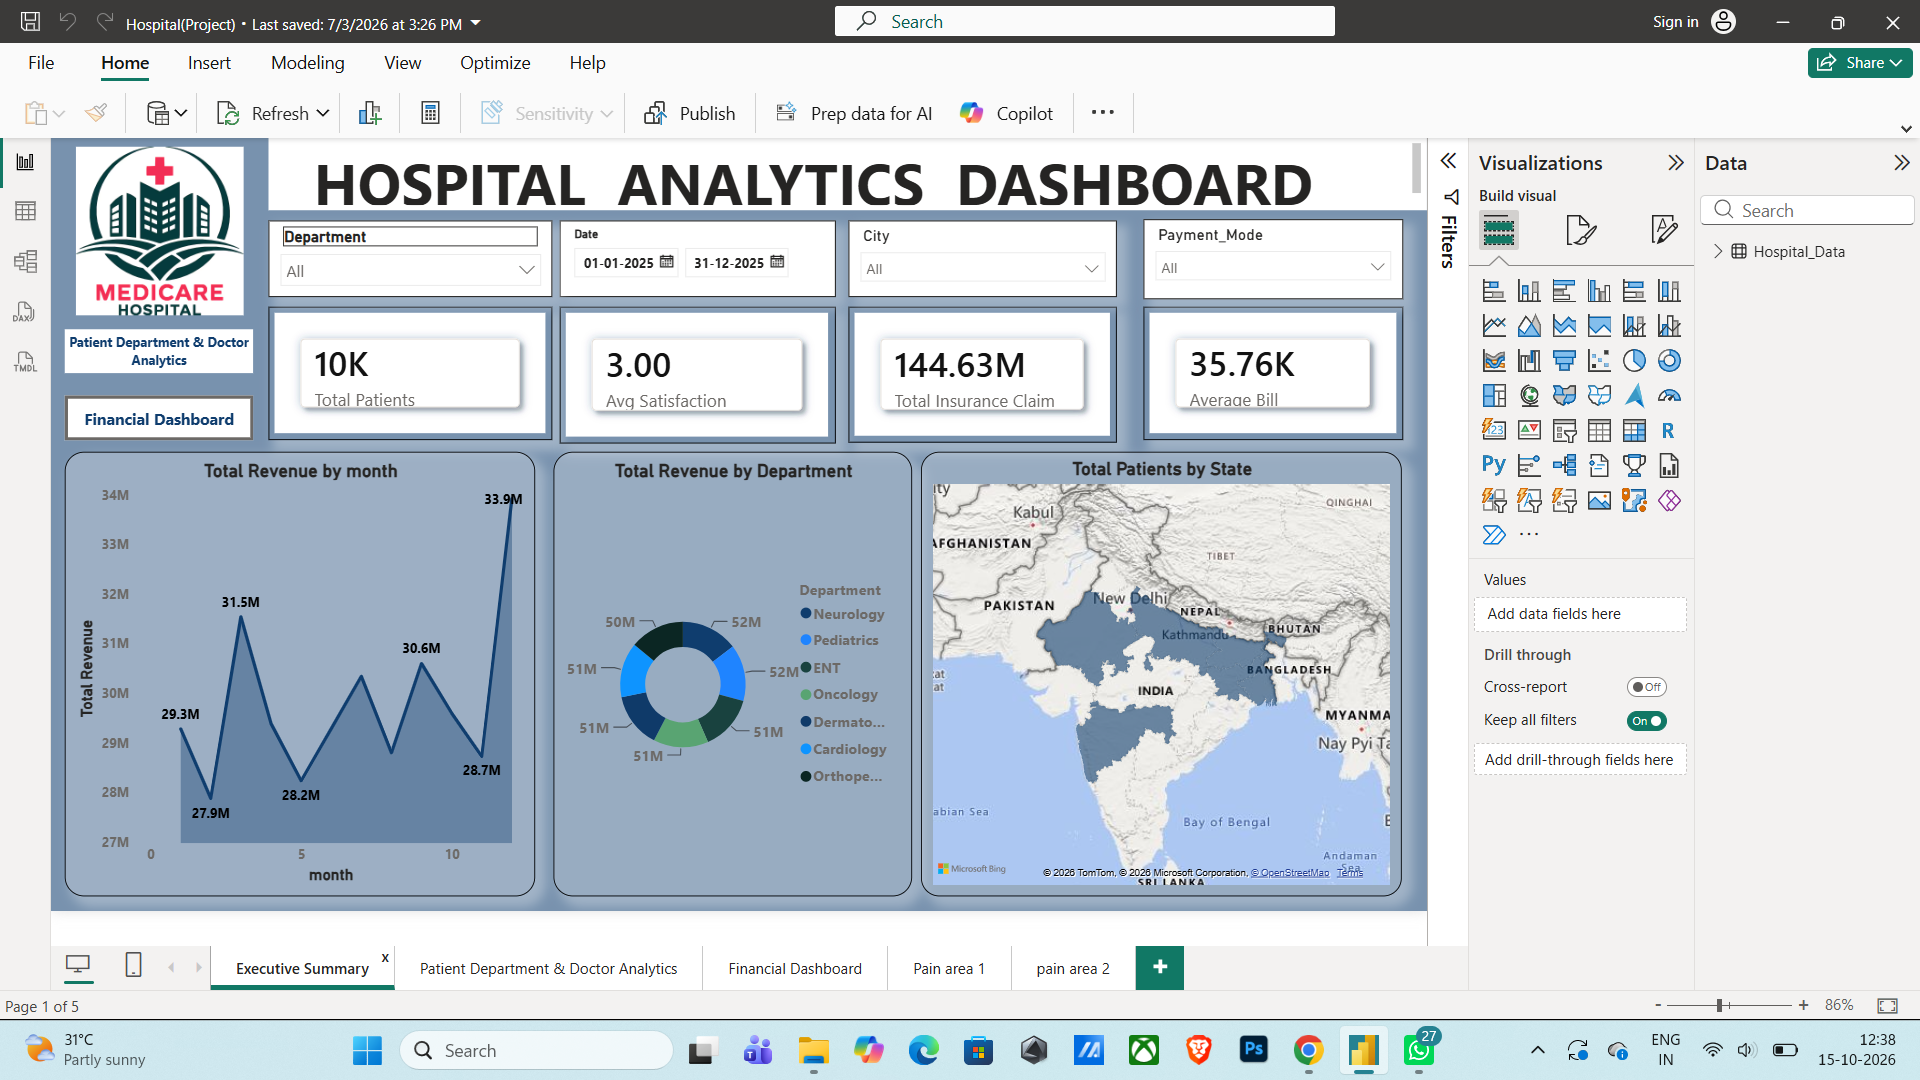

This screenshot's page, from the dashboard's own definition file:
{"tool":"powerbi","page":{"name":"Executive Summary","canvas":[1280,720],"ordinal":0},"visuals":[{"type":"cardVisual","fields":{"Data":["Hospital_Data.Total Patients"]},"box":[202.7,156.8,264.2,124.3],"z":0},{"type":"cardVisual","fields":{"Data":["Hospital_Data.Average Bill"]},"box":[1015.8,156.8,241.3,124.3],"z":1000},{"type":"cardVisual","fields":{"Data":["Hospital_Data.Avg Satisfaction"]},"box":[473.2,156.5,256.8,127.2],"z":2000},{"type":"cardVisual","fields":{"Data":["Hospital_Data.Total Insurance Claim"]},"box":[742,156.8,249.7,126.7],"z":3000},{"type":"lineChart","fields":{"Category":["Hospital_Data.month"],"Y":["Hospital_Data.Total Revenue"]},"box":[13.3,292,437.9,413.8],"z":4000},{"type":"donutChart","fields":{"Category":["Hospital_Data.Department"],"Y":["Hospital_Data.Total Revenue"]},"box":[467.4,291.9,333.7,414],"z":5000},{"type":"slicer","fields":{"Values":["Hospital_Data.Date"]},"box":[472.9,77.2,257,71.2],"z":6000},{"type":"slicer","fields":{"Values":["Hospital_Data.Department"]},"box":[202.7,77.2,264.2,71.2],"z":7000},{"type":"slicer","fields":{"Values":["Hospital_Data.City"]},"box":[742,77.2,249.7,71.2],"z":8000},{"type":"slicer","fields":{"Values":["Hospital_Data.Payment_Mode"]},"box":[1015.8,76,241.3,74.8],"z":9000},{"type":"filledMap","fields":{"Category":["Hospital_Data.State"]},"box":[809.5,292,447.6,413.8],"z":10000},{"type":"image","box":[0,8.1,202.3,157],"z":11000},{"type":"actionButton","box":[12.8,177.9,175.6,40.7],"z":12000},{"type":"actionButton","box":[12.8,239.5,175.6,41.9],"z":13000},{"type":"textbox","box":[202.7,0,1077.4,67.6],"z":14000}]}

Visuals, with their boxes on the page's 1280x720 design canvas (x1, y1, x2, y2). These are canvas units, not pixel positions in the 1920x1080 screenshot, which may show the page scaled, cropped or inside an application window:
cardVisual - Hospital_Data.Total Patients: 203:157:467:281
cardVisual - Hospital_Data.Average Bill: 1016:157:1257:281
cardVisual - Hospital_Data.Avg Satisfaction: 473:156:730:284
cardVisual - Hospital_Data.Total Insurance Claim: 742:157:992:284
lineChart - Hospital_Data.month x Hospital_Data.Total Revenue: 13:292:451:706
donutChart - Hospital_Data.Department x Hospital_Data.Total Revenue: 467:292:801:706
slicer - Hospital_Data.Date: 473:77:730:148
slicer - Hospital_Data.Department: 203:77:467:148
slicer - Hospital_Data.City: 742:77:992:148
slicer - Hospital_Data.Payment_Mode: 1016:76:1257:151
filledMap - Hospital_Data.State: 810:292:1257:706
image: 0:8:202:165
actionButton: 13:178:188:219
actionButton: 13:240:188:281
textbox: 203:0:1280:68
